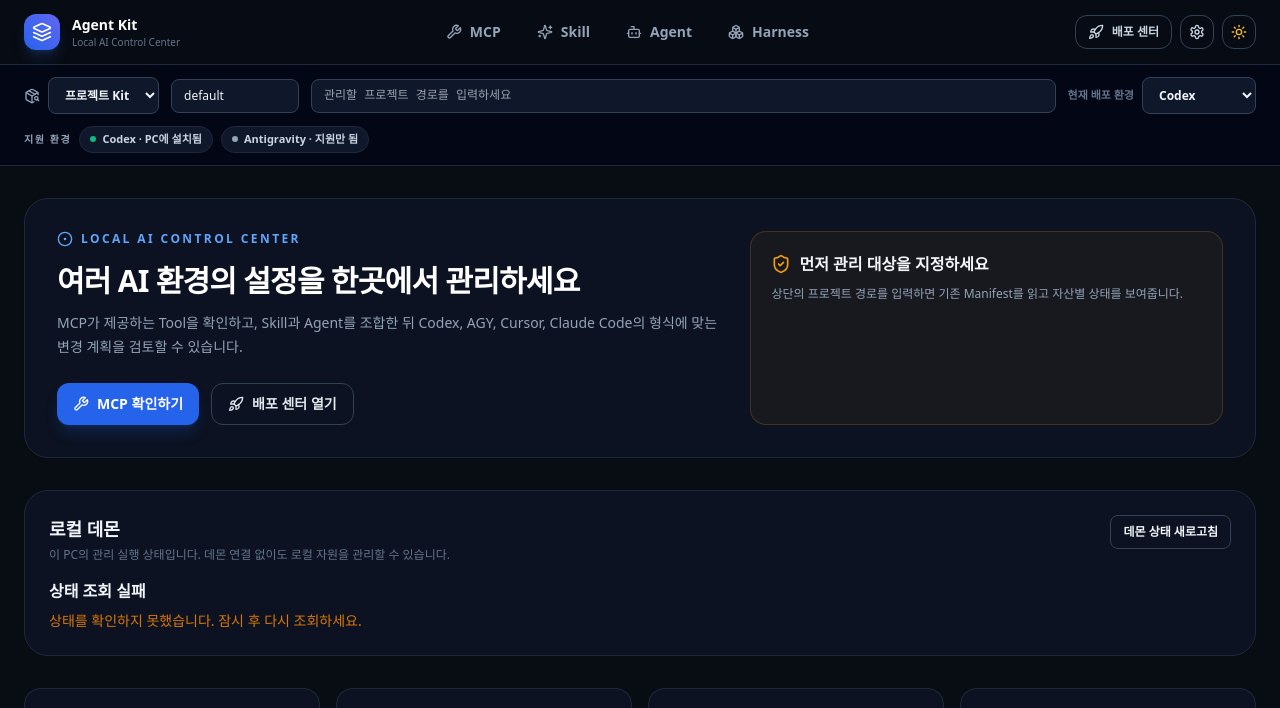
Test: Agent Kit control center shell › keeps deployment target controls in the shared context instead of duplicating them
What coordinates should you click on to do the following:
click the button "배포 센터"
I would click on:
 (1123, 32)
Its box is [1075,15,1172,49].
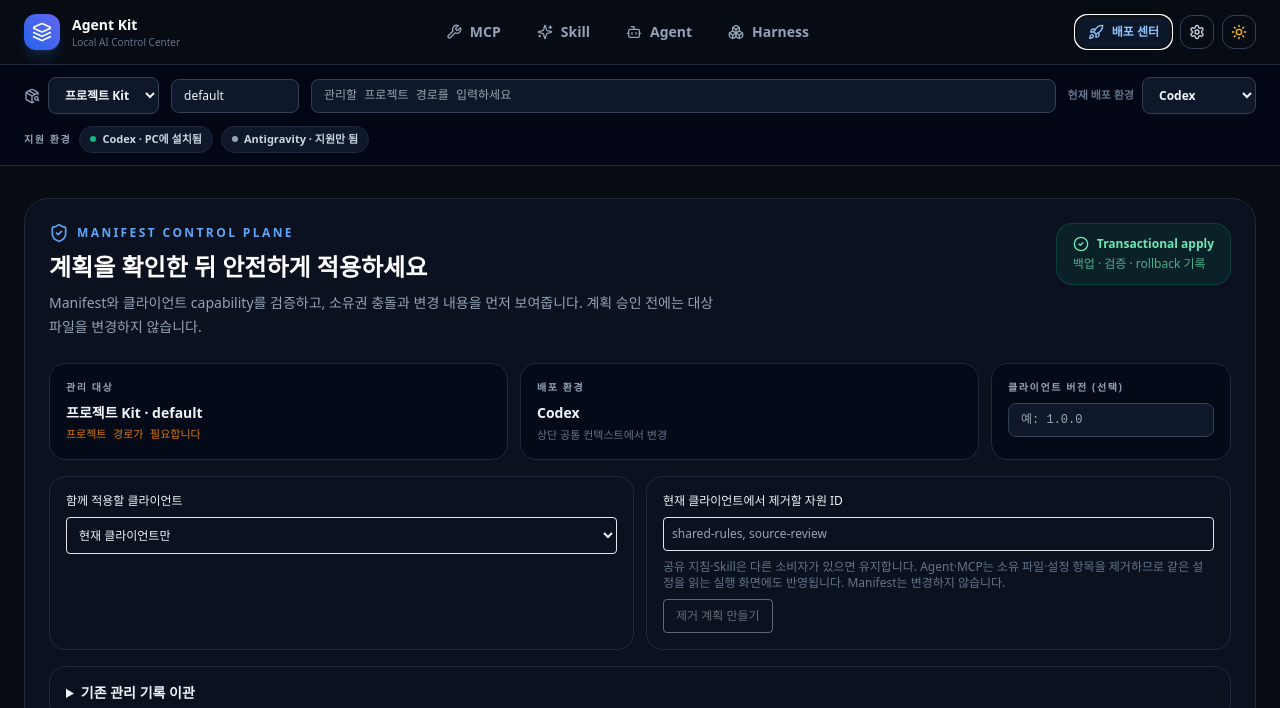
Expected: the number of dropdowns named "현재 배포 환경" is 1, [1142,77,1256,114]
Result: the text "프로젝트 Kit · default" is shown at [66,402,203,422]
